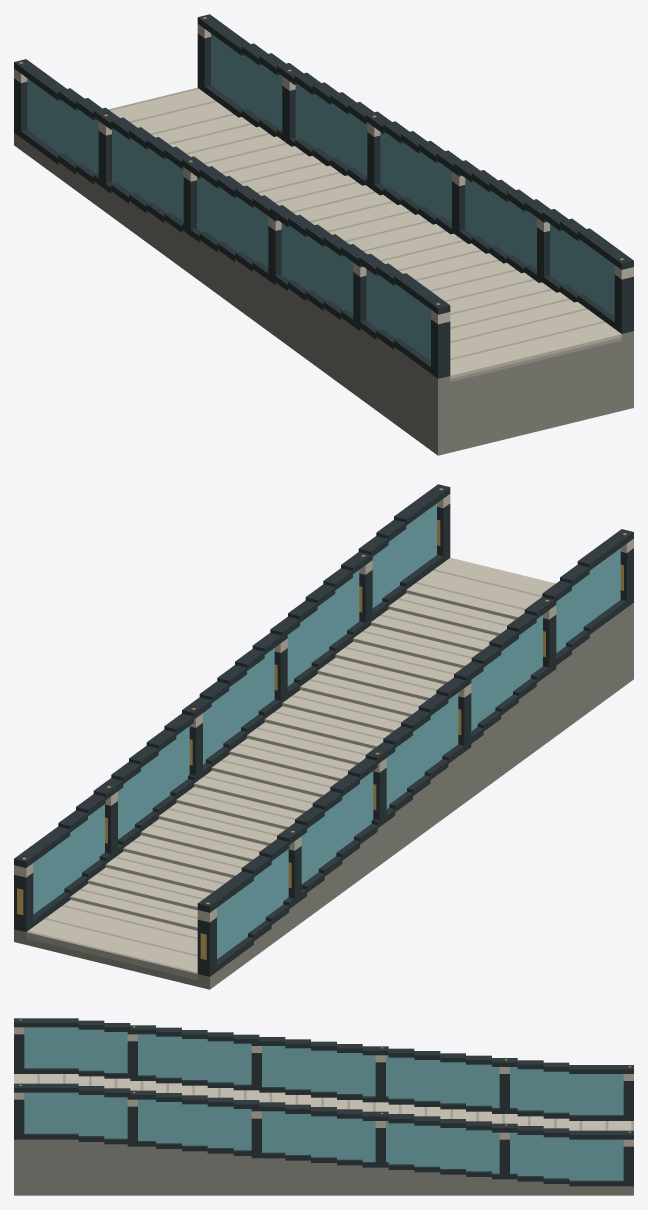
3 renders of one model, top to bottom at view 1: azimuth 30°, elevation 25°; view 2: azimuth 150°, elevation 25°; view 3: azimuth 270°, elevation 25°, orthographic. The views are drawn at different scales.
Visible parts, largest first — view 1: 街院之间共享低坡城市外坡道; view 2: 街院之间共享低坡城市外坡道; view 3: 街院之间共享低坡城市外坡道.
Part boxes in pixels (box(x1,y1,x2,y2)): 街院之间共享低坡城市外坡道: box(14, 14, 633, 455); 街院之间共享低坡城市外坡道: box(14, 484, 633, 989); 街院之间共享低坡城市外坡道: box(14, 1018, 633, 1195).
Size of the model in its own units: 3.2 by 2.3 by 12.
7 materials, 7 textured.
